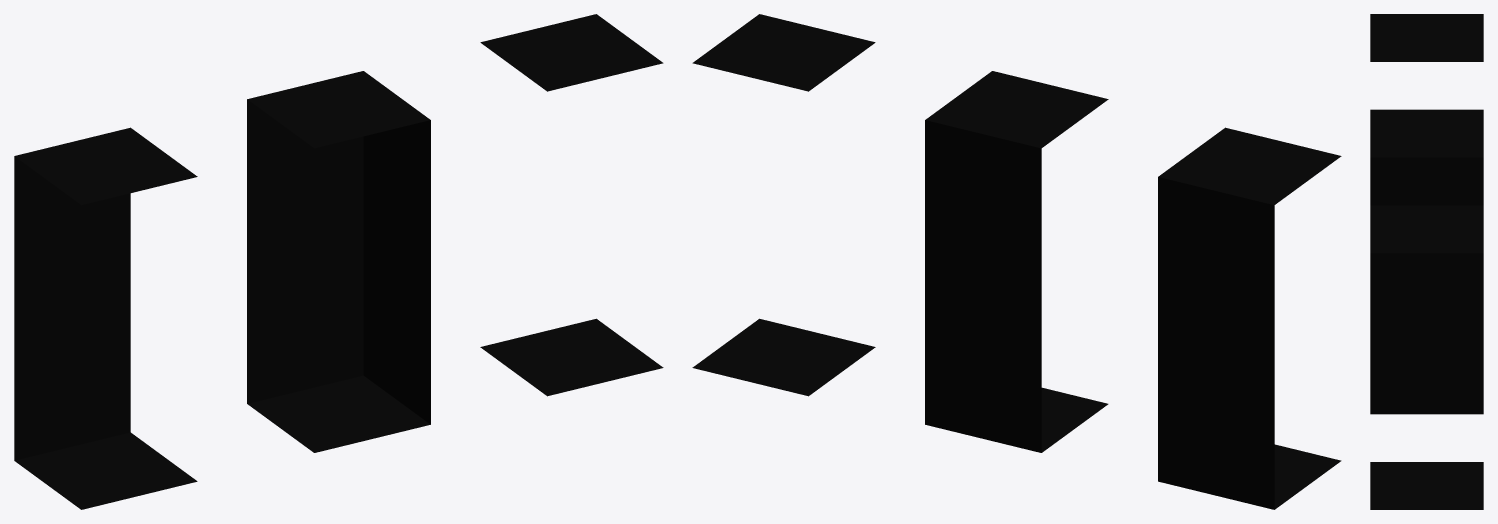
Rendered from dungeon_test.glb.
3 views of the same model, side by side, from view 1: azimuth 30°, elevation 25°; view 2: azimuth 150°, elevation 25°; view 3: azimuth 270°, elevation 25° (orthographic). The views are drawn at different scales.
Parts seen in each view (by area): view 1: corner-col, wall-col, floor-col; view 2: corner-col, wall-col, floor-col; view 3: corner-col, floor-col, wall-col.
Part boxes in pixels (bbox=[...]): corner-col: bbox=[247, 71, 430, 452]; wall-col: bbox=[14, 127, 197, 509]; floor-col: bbox=[480, 14, 663, 396]; corner-col: bbox=[925, 71, 1108, 452]; wall-col: bbox=[1158, 127, 1341, 509]; floor-col: bbox=[692, 14, 875, 396]; corner-col: bbox=[1370, 109, 1483, 414]; floor-col: bbox=[1370, 205, 1483, 509]; wall-col: bbox=[1370, 14, 1483, 61].
Size of the model in its own units: 5 by 2.5 by 1.
Materials: 1 (1 with a texture image).
